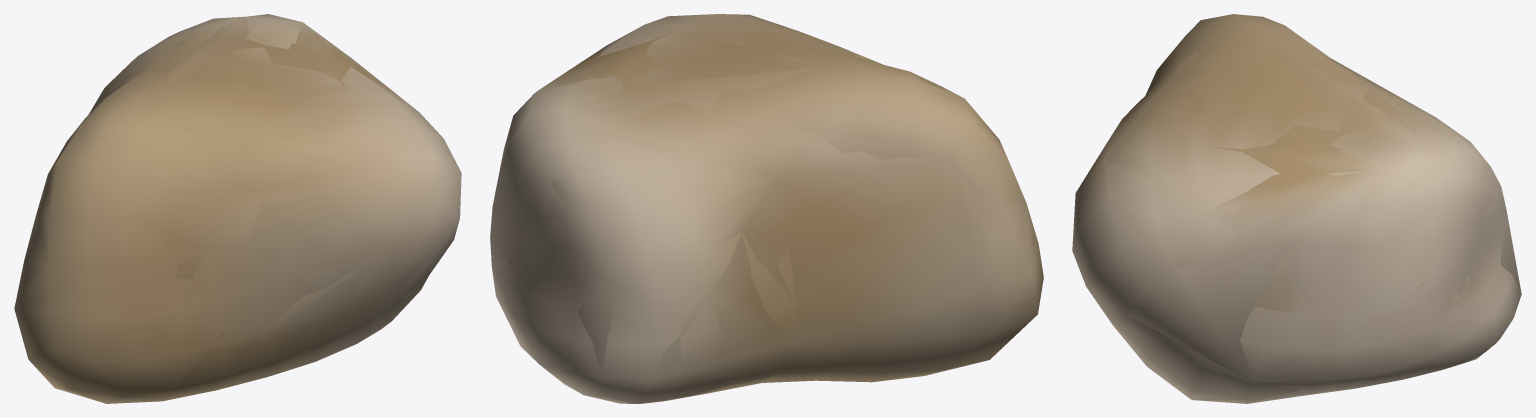
File: R carpale secundum.fbx
3 renders of one model, left to right at view 1: azimuth 30°, elevation 25°; view 2: azimuth 150°, elevation 25°; view 3: azimuth 270°, elevation 25°, orthographic. The views are drawn at different scales.
Visible parts, largest first — view 1: R carpale secundum, R carpale secundum low; view 2: R carpale secundum, R carpale secundum low; view 3: R carpale secundum, R carpale secundum low.
Part boxes in pixels (box(x1,y1,x2,y2)): R carpale secundum: box(14, 14, 461, 403); R carpale secundum low: box(14, 16, 460, 402); R carpale secundum: box(490, 14, 1043, 403); R carpale secundum low: box(507, 15, 1041, 403); R carpale secundum: box(1072, 14, 1521, 403); R carpale secundum low: box(1079, 43, 1521, 400).
Bounding box in the file's own units: 2.93 × 1.87 × 2.67.
